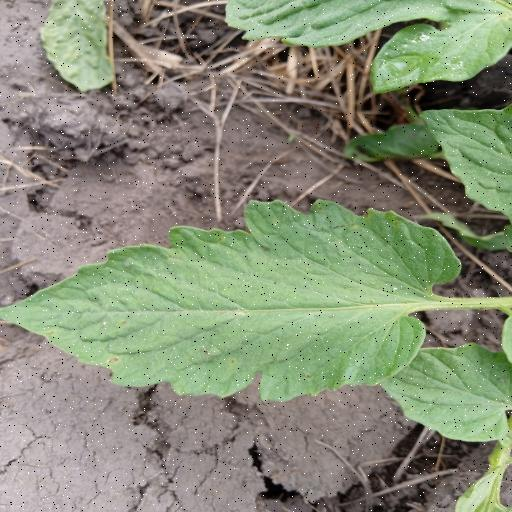Tomato_Brown_Spots: (5, 197, 467, 405)
